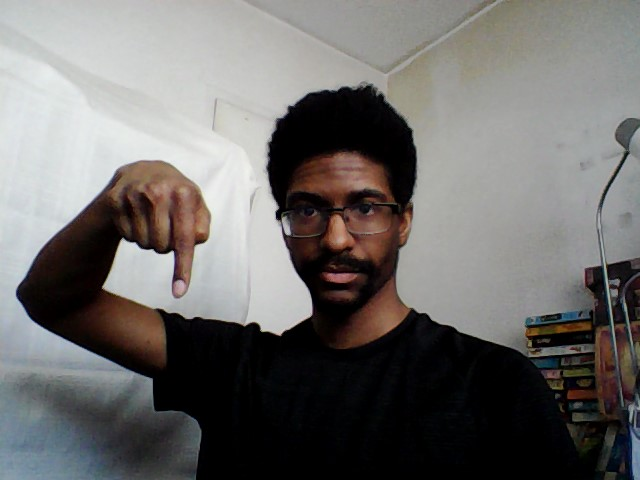q: (103, 153, 216, 303)
